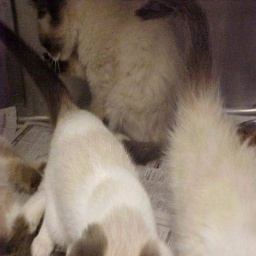cat: (22, 0, 256, 256)
